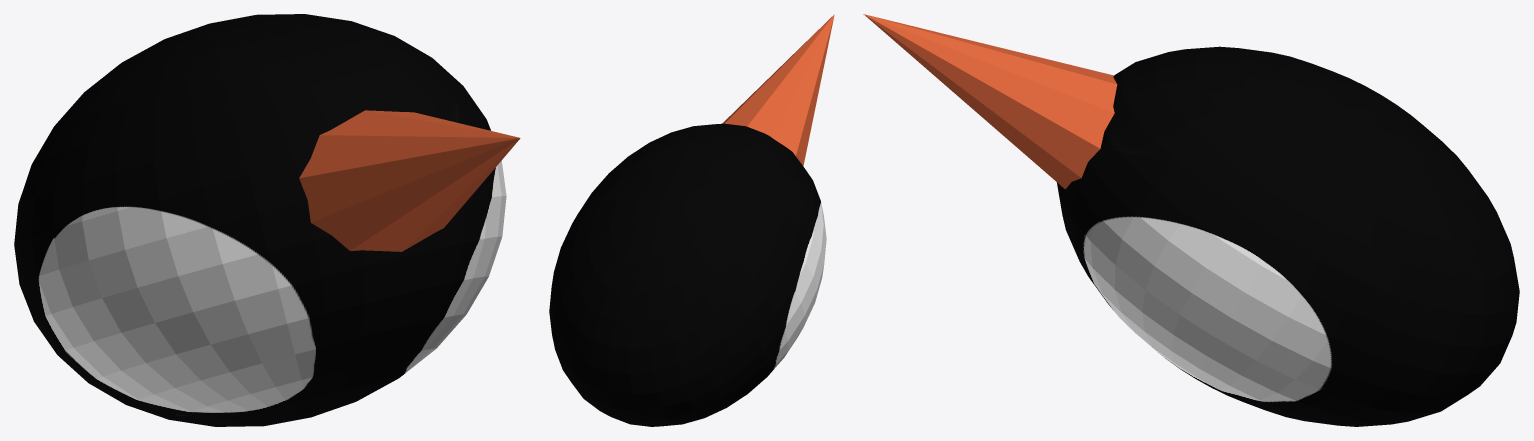
Rendered from evan3d_higher.fbx.
3 renders of one model, left to right at view 1: azimuth 30°, elevation 25°; view 2: azimuth 150°, elevation 25°; view 3: azimuth 270°, elevation 25°, orthographic. The views are drawn at different scales.
Parts seen in each view (by area): view 1: head, nose; view 2: head, nose; view 3: head, nose.
Part boxes in pixels (box(x1,y1,x2,y2)): head: box(14, 14, 506, 426); nose: box(299, 110, 520, 251); head: box(549, 123, 826, 426); nose: box(722, 14, 834, 166); head: box(1056, 46, 1519, 426); nose: box(863, 14, 1117, 189).
Bounding box in the file's own units: 200 × 230 × 346.
